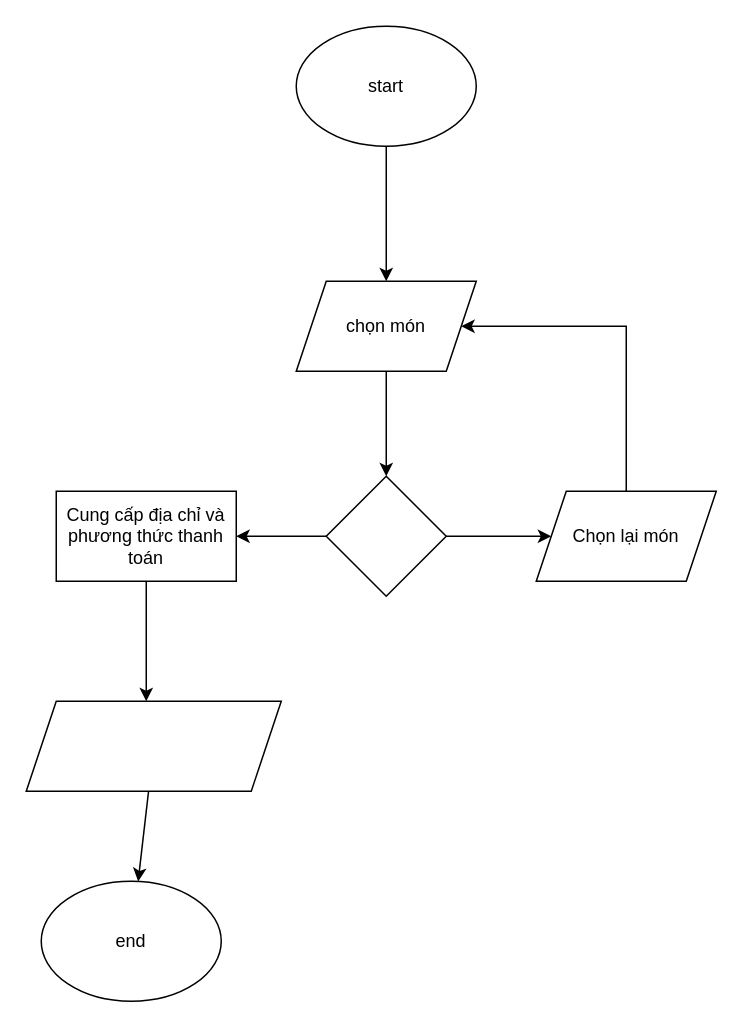
This 743x1028 diagram has some shape labels left out. Each missing label, with the box of its shape:
Nhận món ăn tại địa chỉ đã cung cấp: (25, 700, 281, 791)
Xác nhận chọn món: (325, 475, 446, 596)
